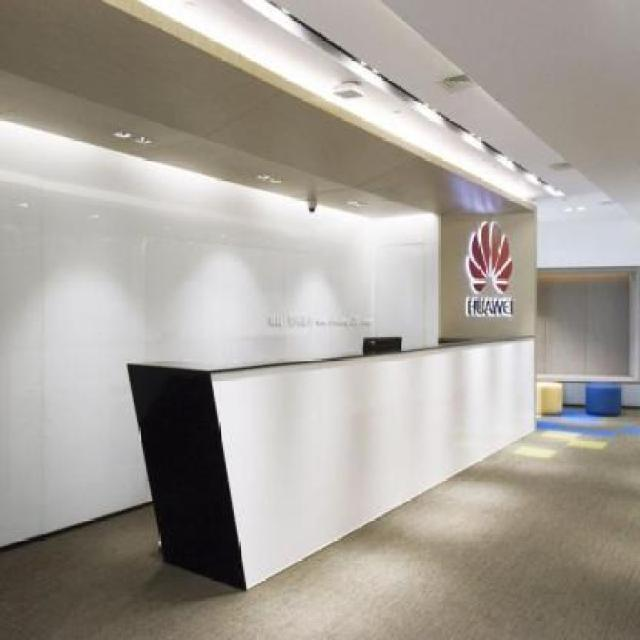frontdesk: (103, 322, 540, 596)
